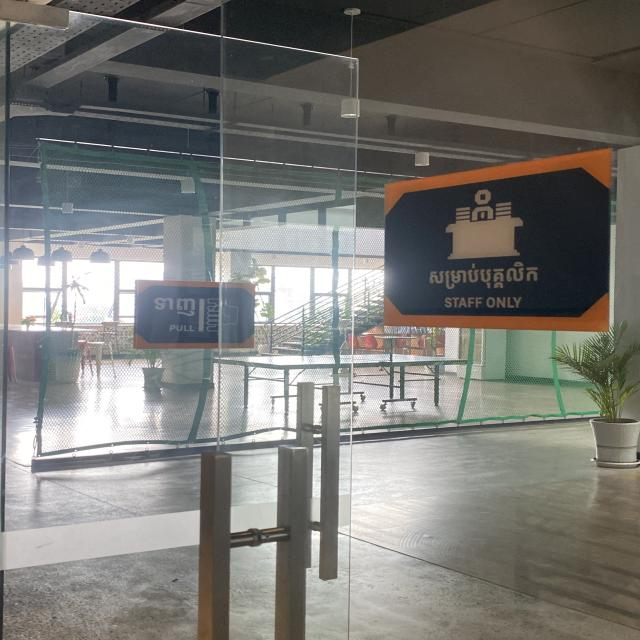Yolov11kh: (428, 261, 542, 292), (148, 288, 197, 319)
